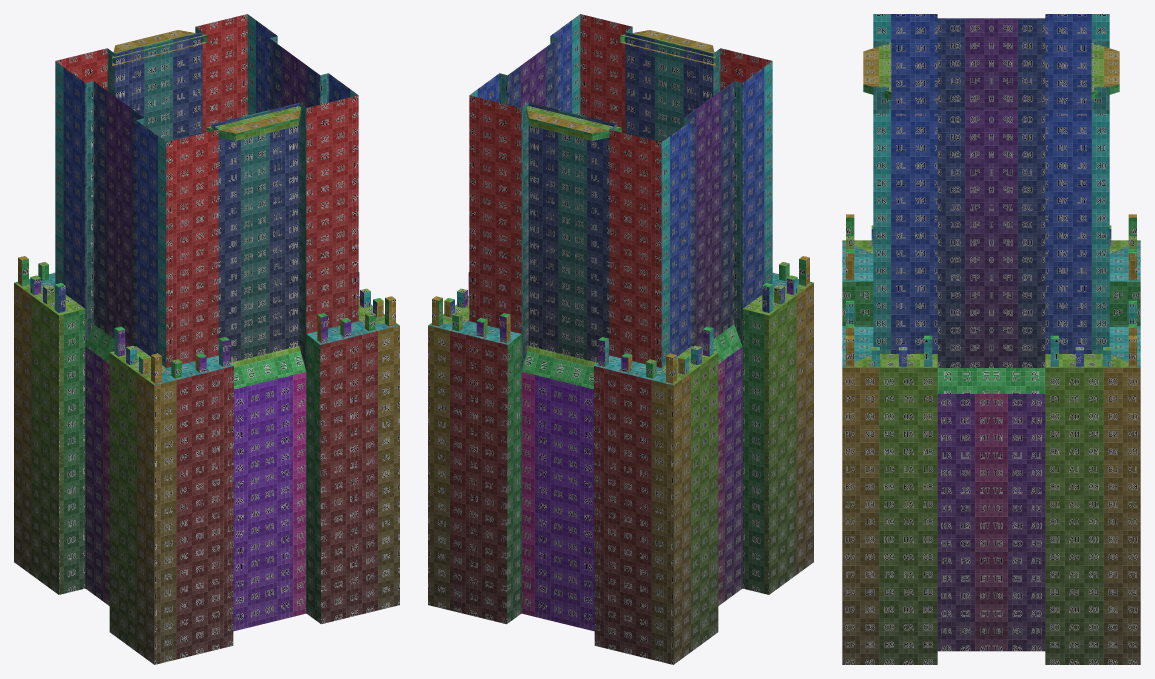
File: palace3.fbx
3 renders of one model, left to right at view 1: azimuth 30°, elevation 25°; view 2: azimuth 150°, elevation 25°; view 3: azimuth 270°, elevation 25°, orthographic. The views are drawn at different scales.
Visible parts, largest first — view 1: palace3; view 2: palace3; view 3: palace3.
Boxes of the visible parts, x1,y1,x2,y2 form: palace3: (14, 14, 399, 664); palace3: (428, 14, 813, 664); palace3: (842, 14, 1140, 664).
Size of the model in its own units: 2102 by 4137 by 2082.
